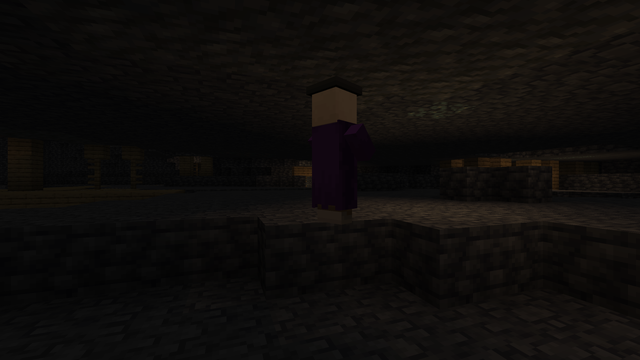sorcieres: (308, 79, 361, 225)
